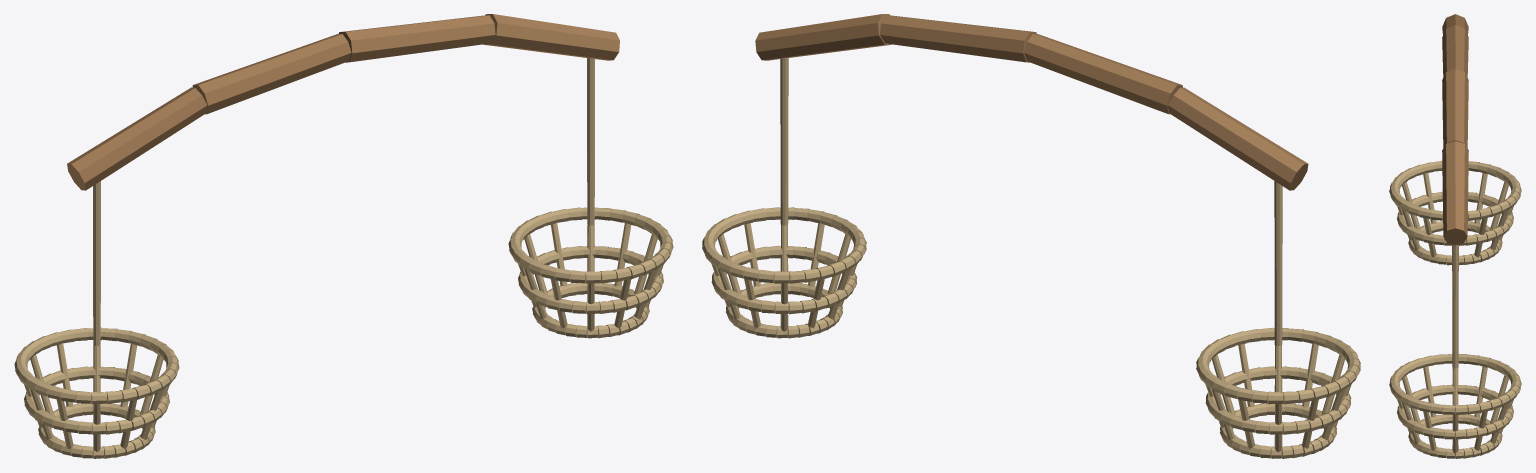
The picture shows the model from 3 angles, left to right: view 1: azimuth 30°, elevation 25°; view 2: azimuth 150°, elevation 25°; view 3: azimuth 270°, elevation 25°; orthographic projection. The views are drawn at different scales.
Visible parts, largest first — view 1: CE-029 Counterbalanced salt carrying yoke batched; view 2: CE-029 Counterbalanced salt carrying yoke batched; view 3: CE-029 Counterbalanced salt carrying yoke batched.
Boxes of the visible parts, x1,y1,x2,y2 form: CE-029 Counterbalanced salt carrying yoke batched: (14, 14, 673, 458); CE-029 Counterbalanced salt carrying yoke batched: (702, 14, 1360, 458); CE-029 Counterbalanced salt carrying yoke batched: (1389, 14, 1521, 458).
Size of the model in its own units: 1.55 by 0.7988 by 0.3479.
